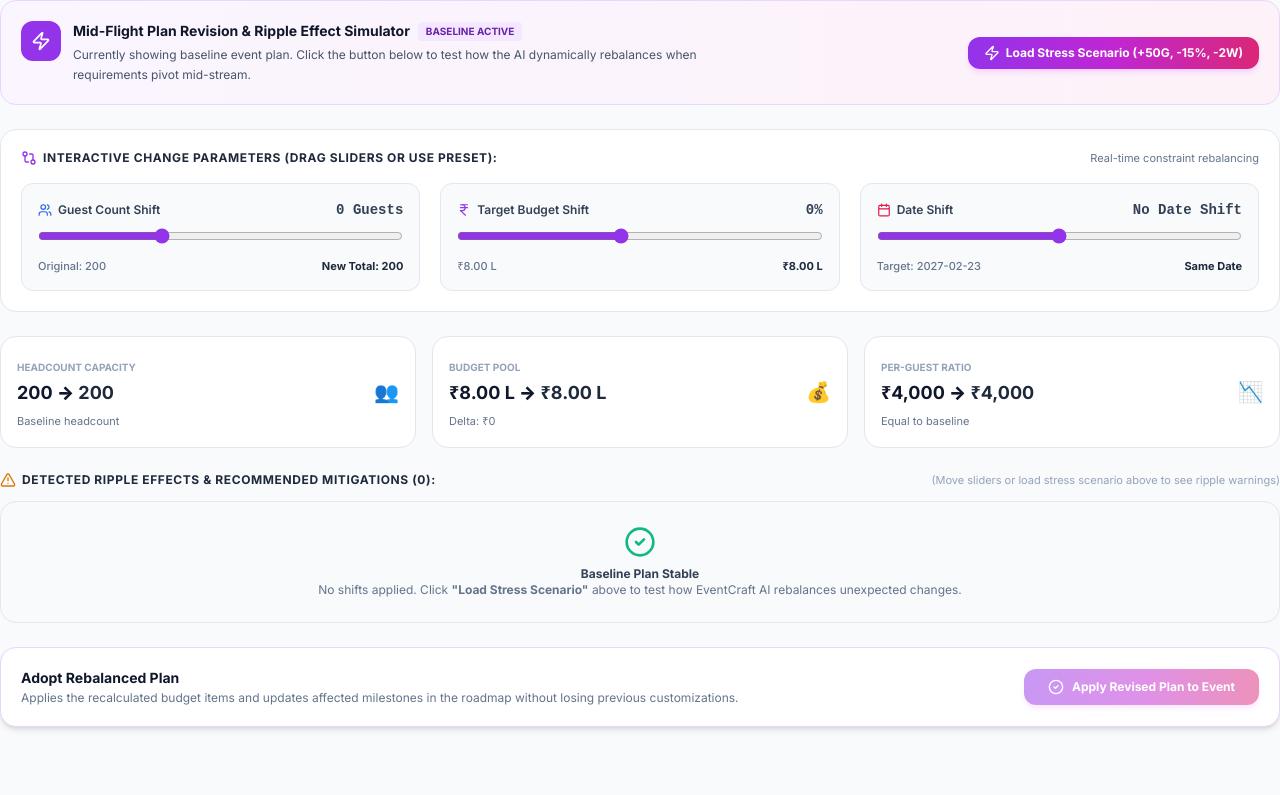
Test case: EventCraft AI End-to-End Workflows & Edge Cases › Adaptive Plan Revision Stress Testing › initializes at neutral baseline and activates stress scenario (+50G, -15%, -2W)
expect the text "Baseline Active" is shown: met, box [418,22,522,40]
# Click stress test button
What coordinates should you click on to do the following:
click the button "Load Stress Scenario (+50G, -15%, -2W)"
I would click on:
 (1113, 52)
Its box is [968,36,1259,68].
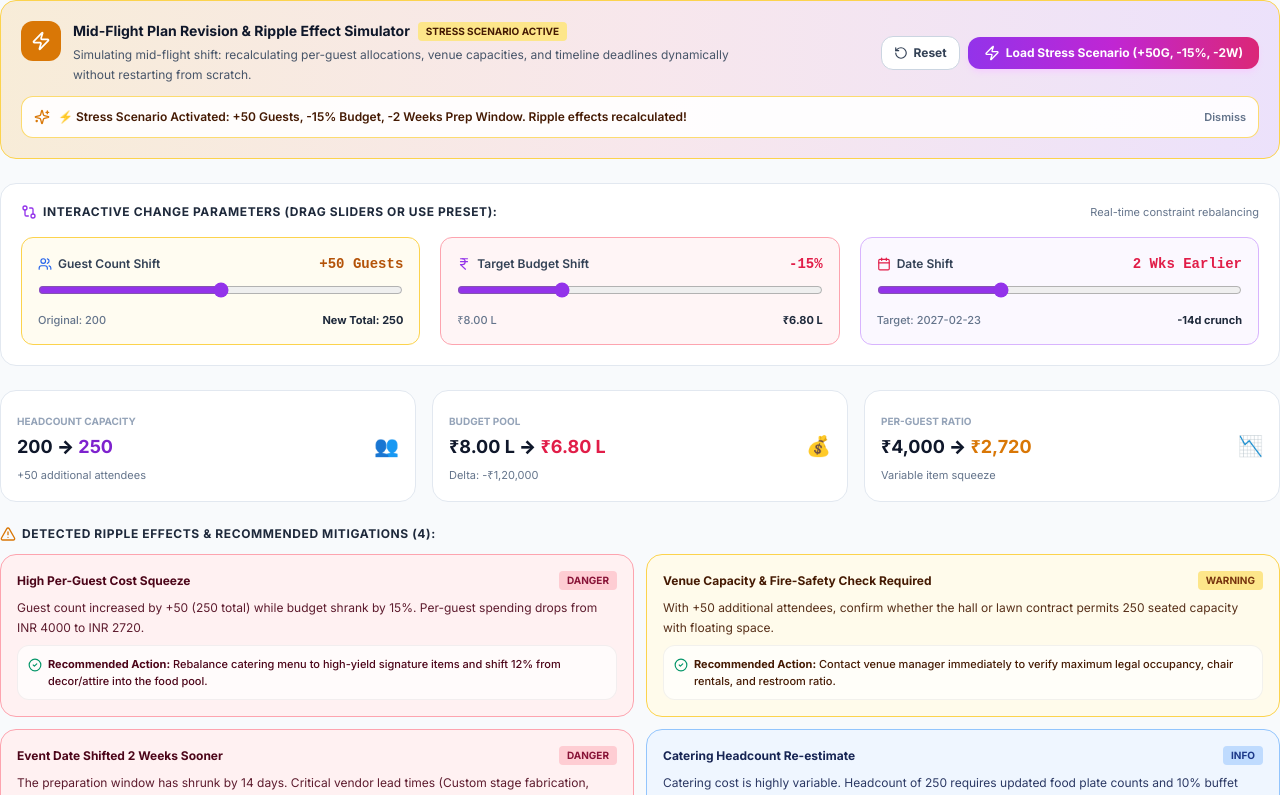
expect the text "Load Stress Scenario (+50G, -15%, -2W)" is shown: met, box [1006,44,1243,60]
expect the text "+50 Guests" is shown: met, box [58,109,687,124]
expect the text "2 Wks Earlier" is shown: met, box [1133,254,1242,274]
# Reset button should now be active
What coordinates should you click on to do the following:
click the button "Reset"
I would click on:
 (920, 52)
Its box is [880,36,960,70].
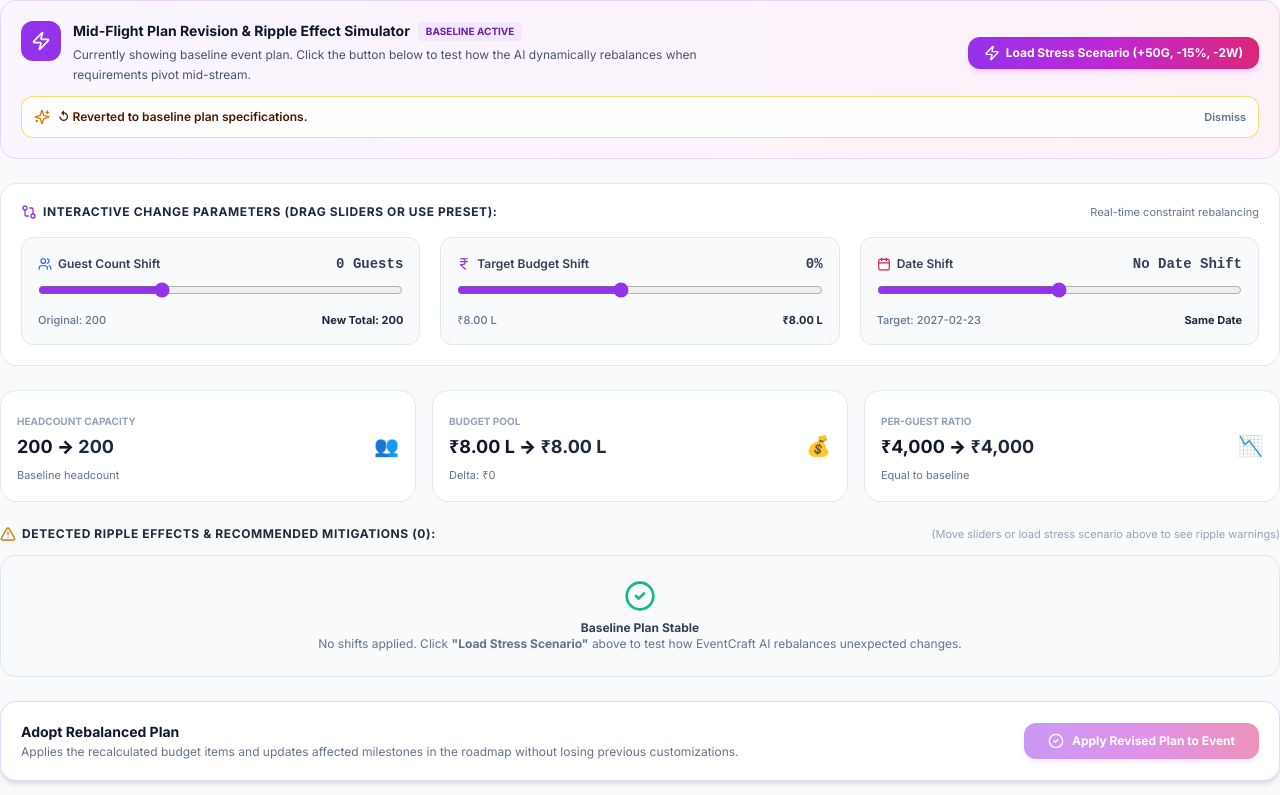
expect the text "0 Guests" is shown: met, box [336,254,403,274]
expect the text "No Date Shift" is shown: met, box [1133,254,1242,274]
